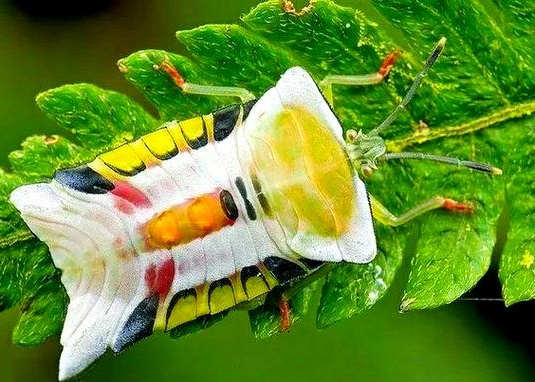Stink_Bug: (63, 75, 399, 324)
